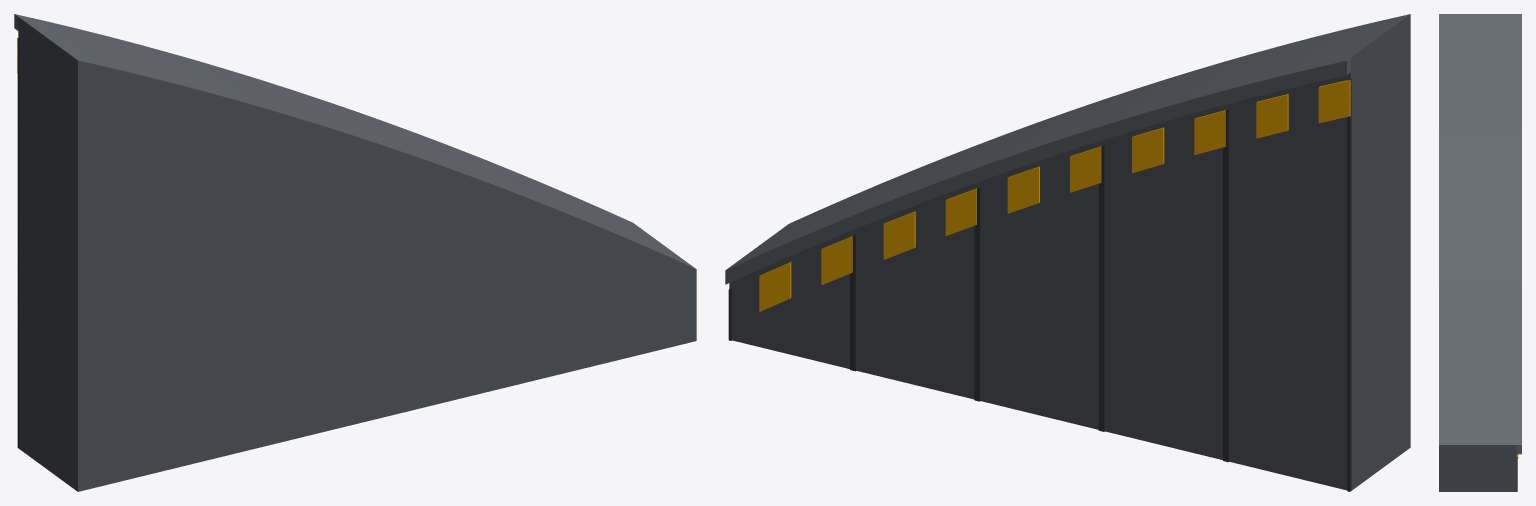
The picture shows the model from 3 angles, left to right: view 1: azimuth 30°, elevation 25°; view 2: azimuth 150°, elevation 25°; view 3: azimuth 270°, elevation 25°; orthographic projection. The views are drawn at different scales.
Parts seen in each view (by area): view 1: e23wf; view 2: e23wf; view 3: e23wf.
Boxes of the visible parts, box(x1,y1,x2,y2) form: e23wf: box(14, 14, 696, 491); e23wf: box(725, 14, 1410, 491); e23wf: box(1439, 14, 1521, 491).
Bounding box in the file's own units: 9 × 6 × 1.6.
